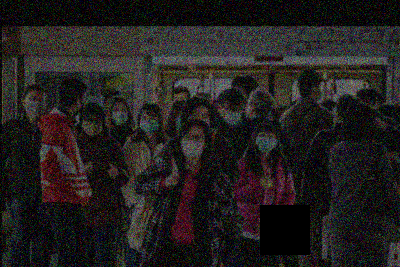with_mask: (180, 133, 206, 160), (25, 93, 48, 117), (255, 131, 279, 154), (222, 104, 245, 126), (80, 117, 104, 138), (138, 114, 160, 136), (186, 111, 210, 130), (110, 106, 129, 127), (173, 112, 184, 133)
